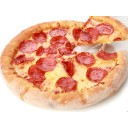pepperonipizza: (1, 15, 127, 110)
